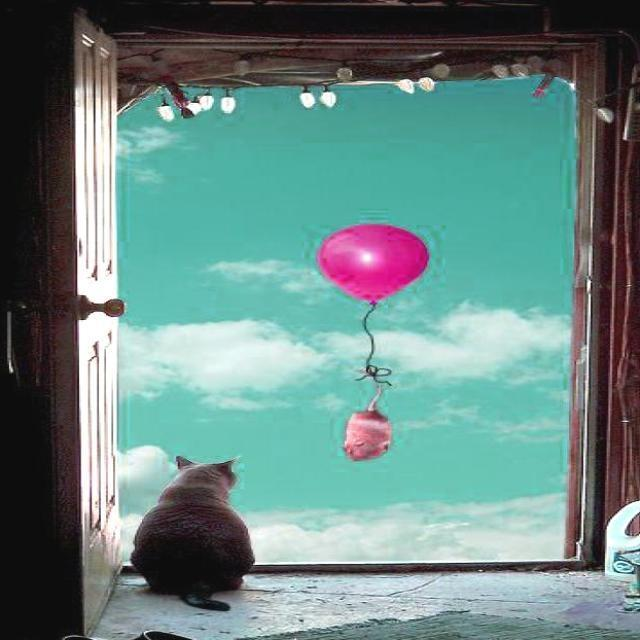door: (39, 11, 130, 636)
